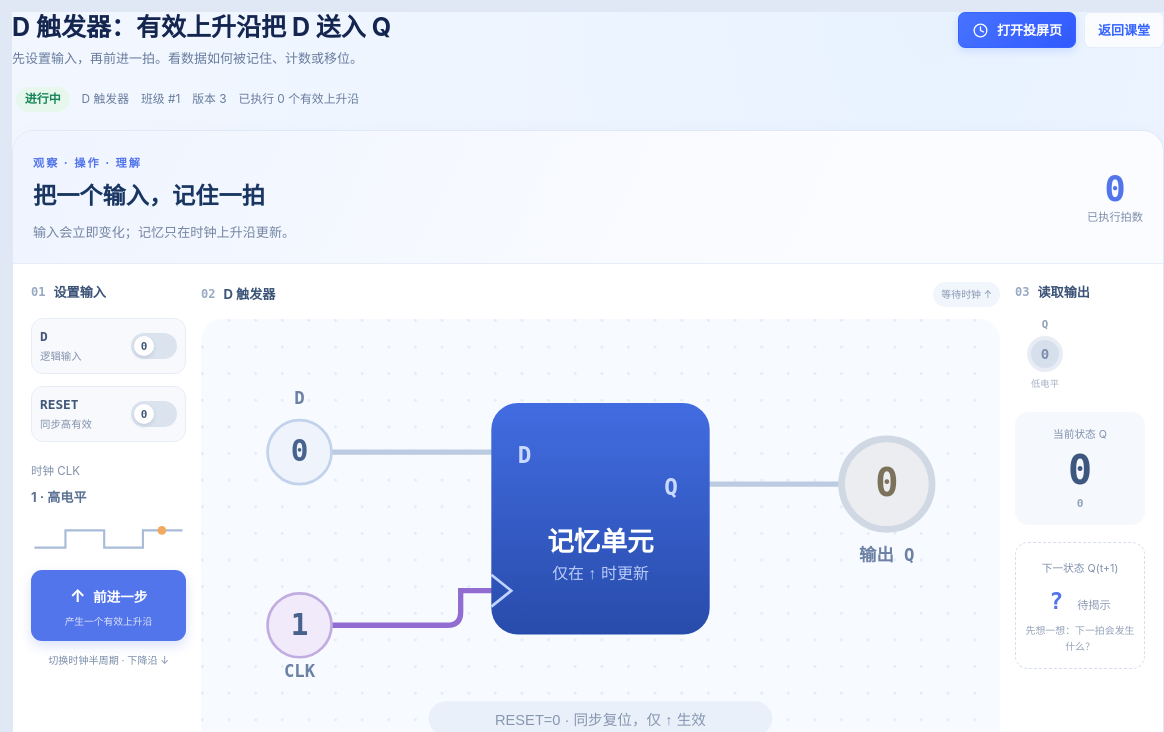
Test case: 教师演示控制台 › 高电平时前进一步串行发送下降沿和上升沿，采用每次回执版本
The image size is (1164, 732).
Click the button "↑ 前进一步 产生一个有效上升沿". click: (108, 605)
box: [31, 570, 186, 641]
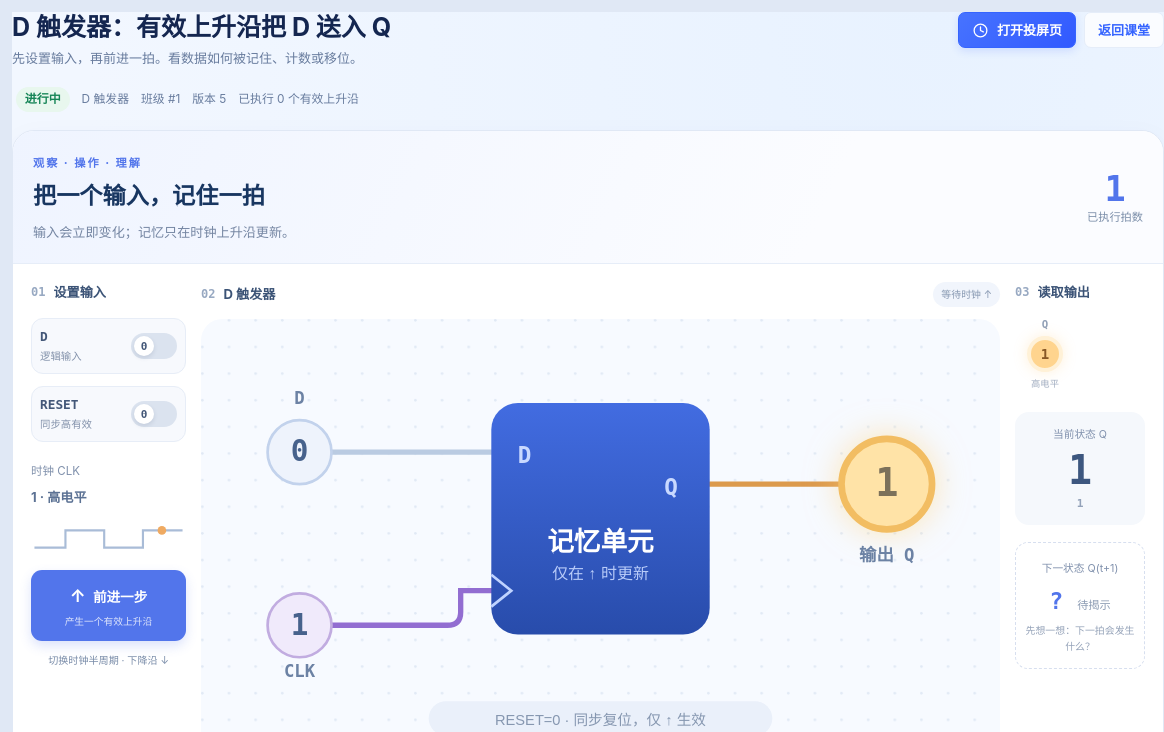
Expected: the text "版本 5" is shown, [192, 90, 226, 109]
Expected: the 3rd text "1" is shown, [1068, 447, 1092, 493]
